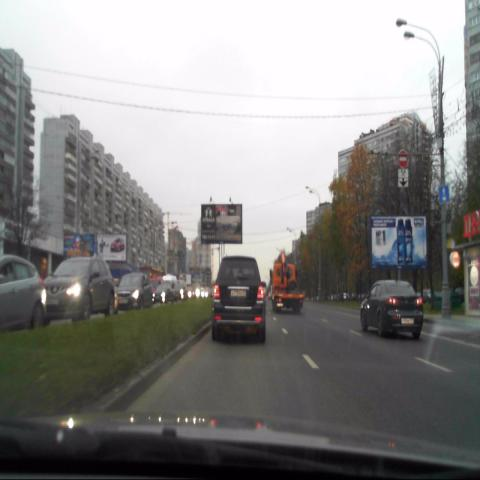5_14: (438, 184, 449, 204)
